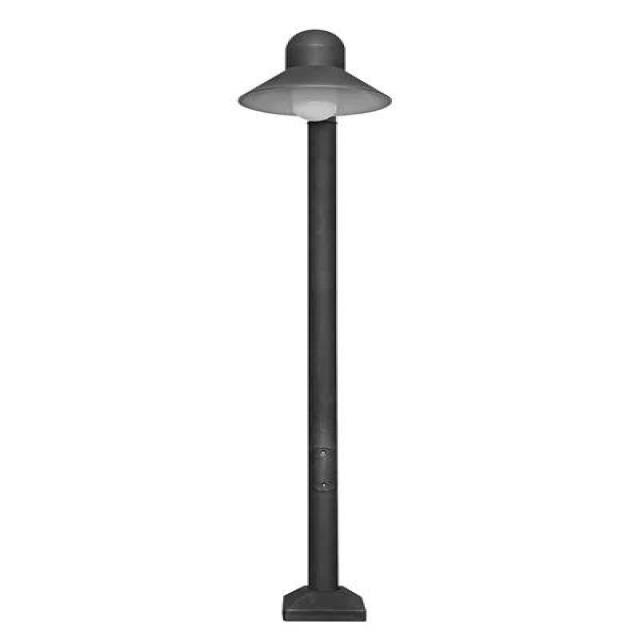Pole: (238, 29, 392, 622)
